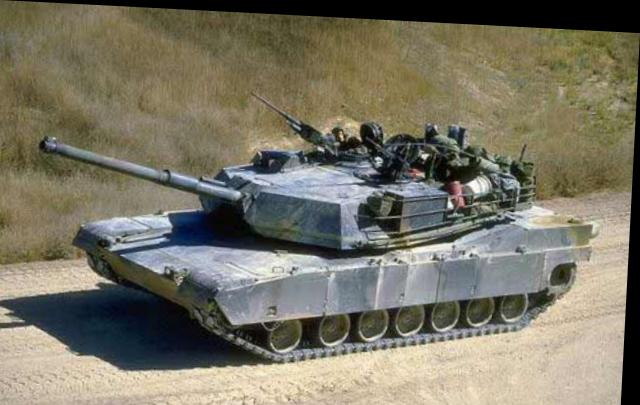tank: (70, 119, 597, 372)
